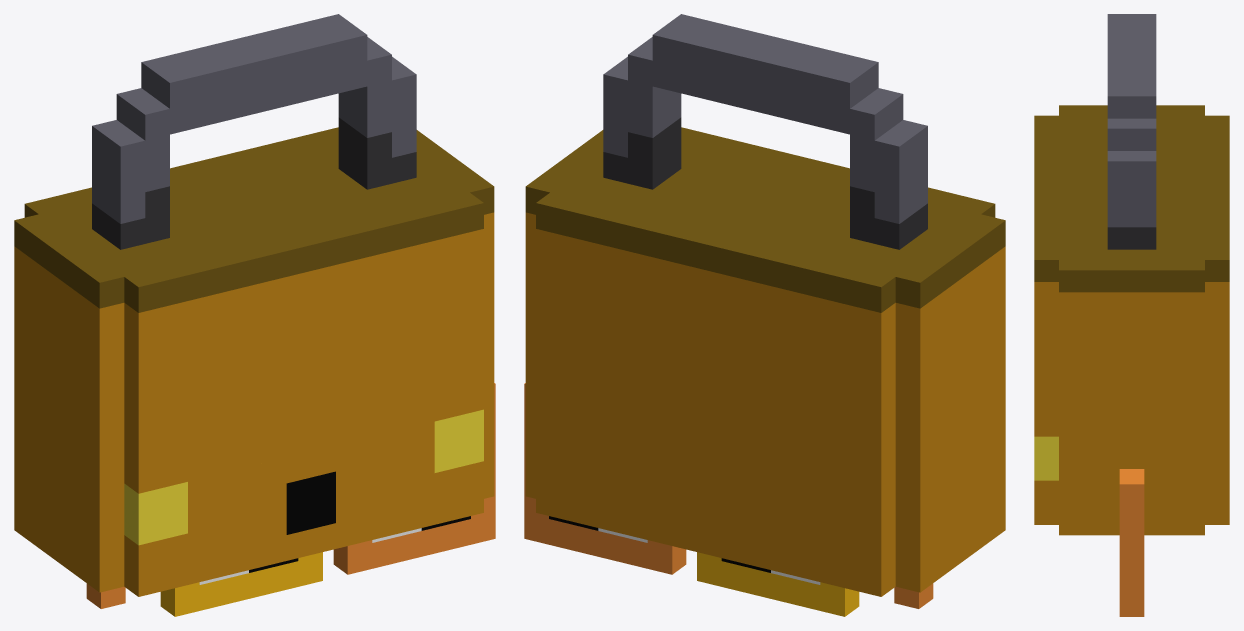
The model's file is lock.glb.
3 views of the same model, side by side, from view 1: azimuth 30°, elevation 25°; view 2: azimuth 150°, elevation 25°; view 3: azimuth 270°, elevation 25° (orthographic). The views are drawn at different scales.
Parts seen in each view (by area): view 1: base, glasses, mouth, layer-2; view 2: base, glasses, layer-2; view 3: base, glasses.
Boxes of the visible parts, x1,y1,x2,y2 form: base: [14, 14, 494, 596]; glasses: [86, 383, 495, 616]; mouth: [286, 471, 335, 534]; layer-2: [199, 516, 470, 584]; base: [525, 14, 1005, 596]; glasses: [524, 383, 933, 616]; layer-2: [549, 516, 820, 584]; base: [1034, 14, 1229, 535]; glasses: [1119, 469, 1144, 616].
Bounding box in the file's own units: 17.5 × 21 × 8.
Materials: 13 (13 with a texture image).
